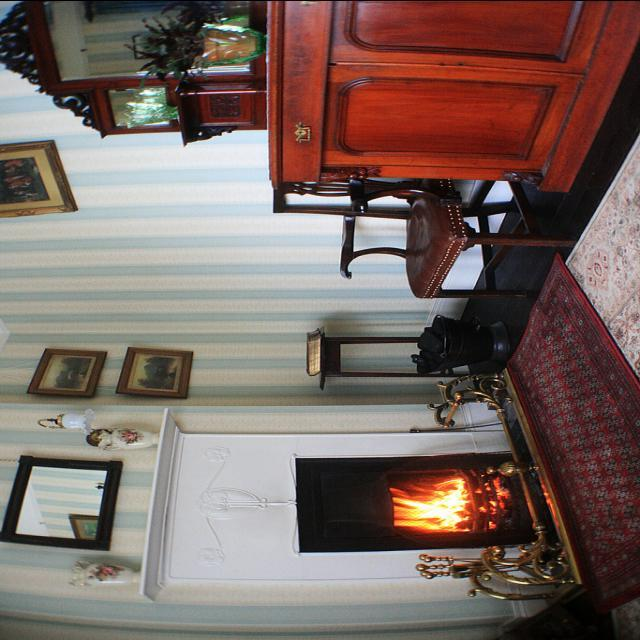Fire: (384, 467, 500, 537)
